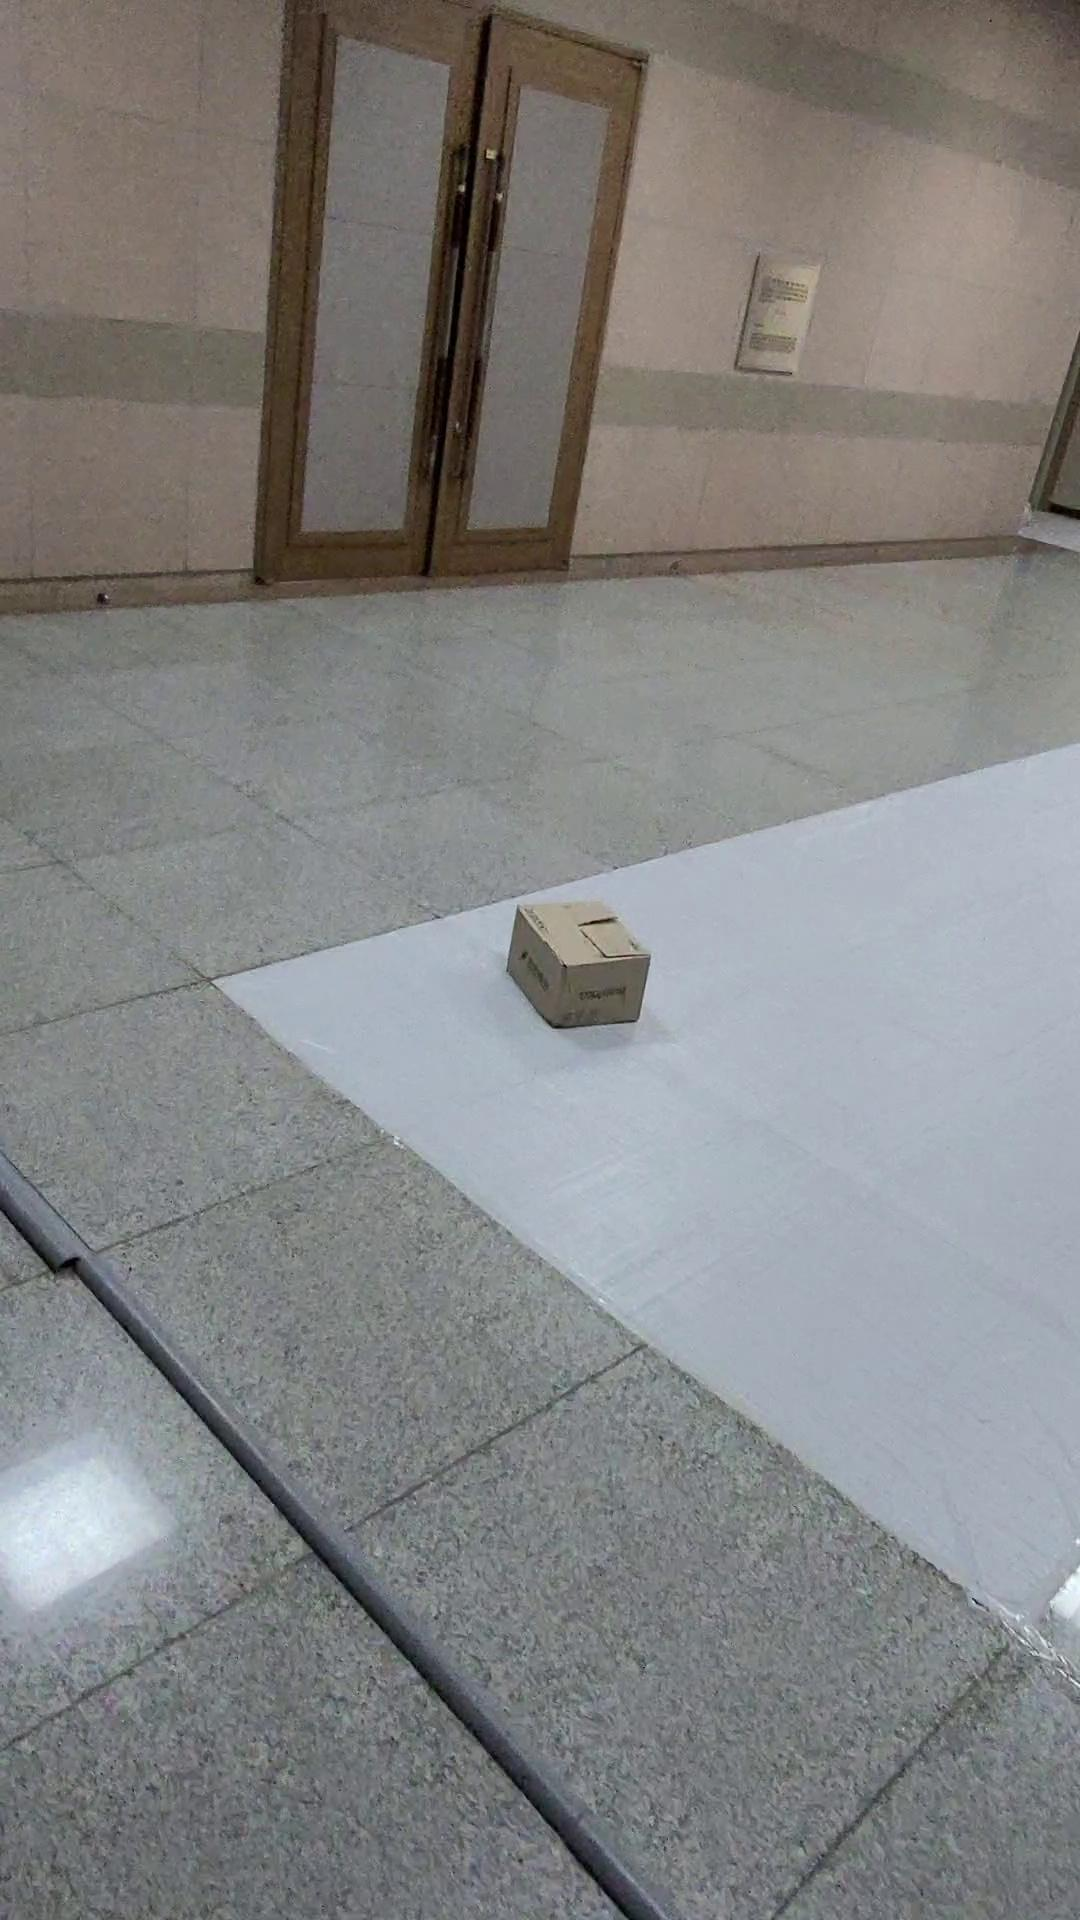Box: (498, 887, 665, 1030)
